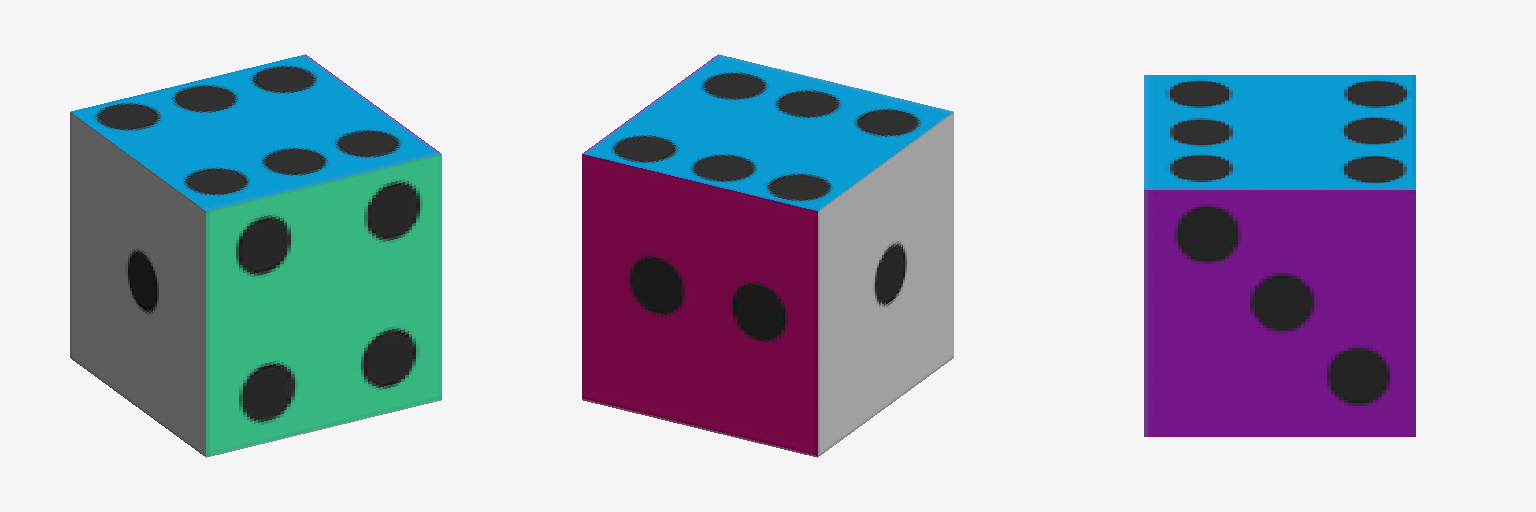
3 views of the same model, side by side, from view 1: azimuth 30°, elevation 25°; view 2: azimuth 150°, elevation 25°; view 3: azimuth 270°, elevation 25° (orthographic).
Parts seen in each view (by area): view 1: Cube.001; view 2: Cube.001; view 3: Cube.001.
Boxes of the visible parts, x1=… form: Cube.001: x1=70, y1=54, x2=441, y2=457; Cube.001: x1=582, y1=54, x2=953, y2=457; Cube.001: x1=1144, y1=75, x2=1415, y2=436.
Size of the model in its own units: 2 by 2 by 2.
1 materials, 1 textured.